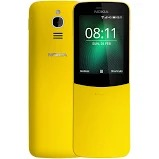nokia: (24, 1, 131, 159)
